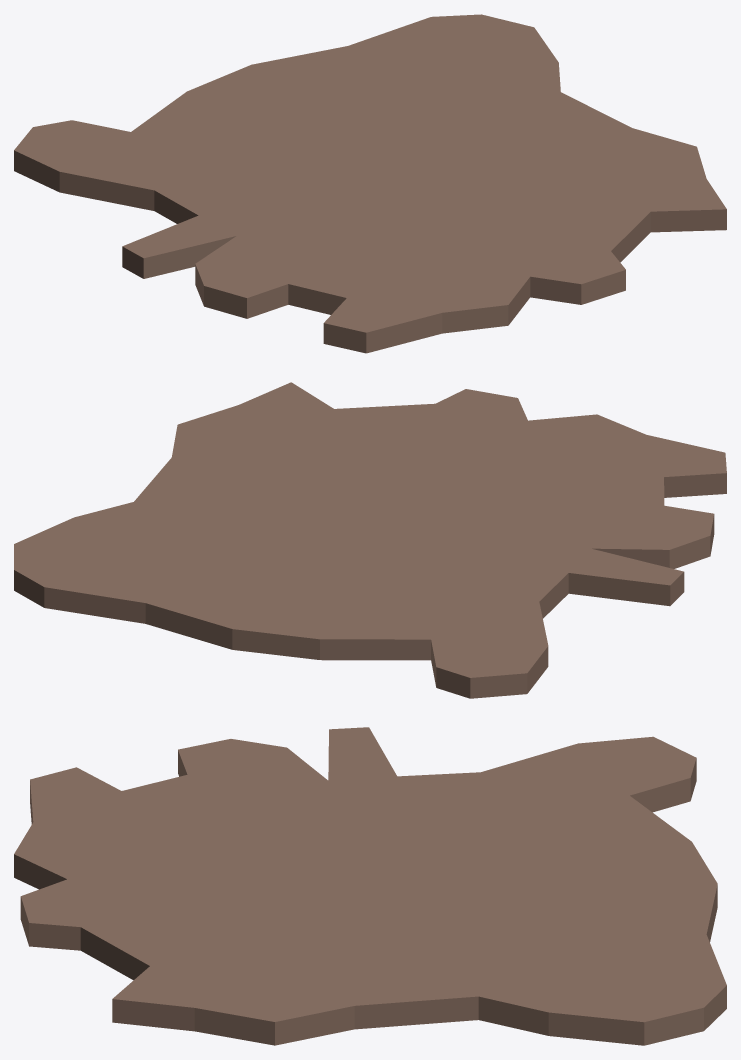
Rendered from SM_island07.fbx.
The picture shows the model from 3 angles, top to bottom: view 1: azimuth 30°, elevation 25°; view 2: azimuth 150°, elevation 25°; view 3: azimuth 270°, elevation 25°; orthographic projection. The views are drawn at different scales.
Visible parts, largest first — view 1: SM_island07; view 2: SM_island07; view 3: SM_island07.
Boxes of the visible parts, x1,y1,x2,y2 form: SM_island07: (14, 14, 726, 353); SM_island07: (14, 382, 726, 698); SM_island07: (14, 727, 726, 1045).
Bounding box in the file's own units: 3574 × 133 × 3650.
